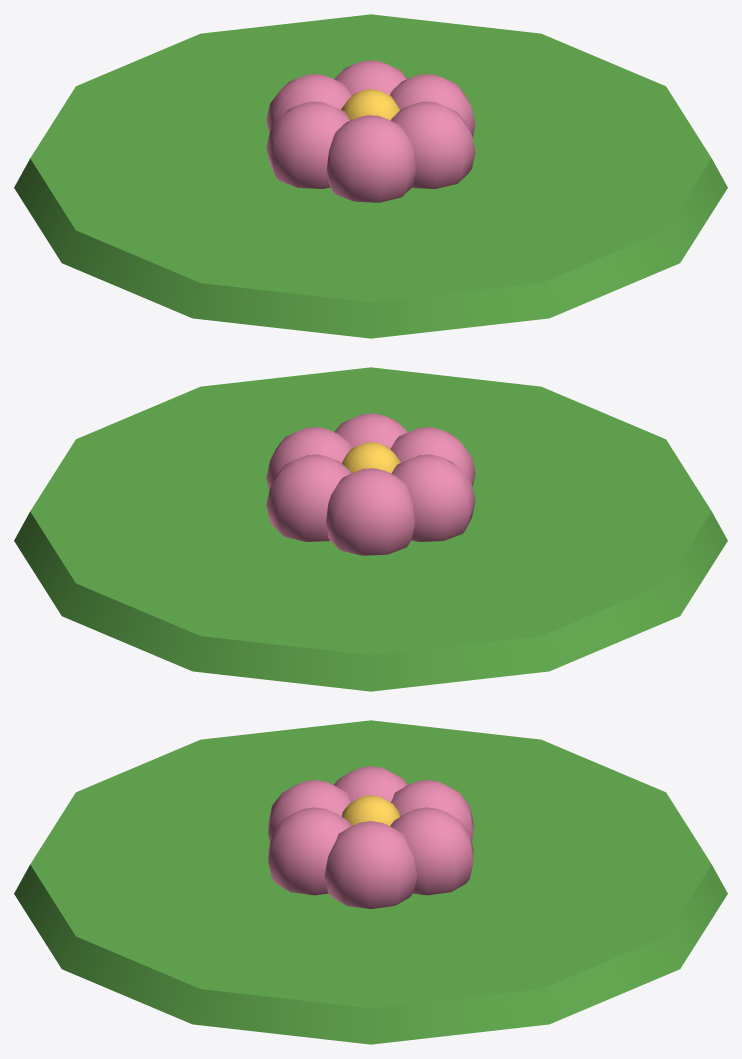
File: lily_large.glb
The picture shows the model from 3 angles, top to bottom: view 1: azimuth 30°, elevation 25°; view 2: azimuth 150°, elevation 25°; view 3: azimuth 270°, elevation 25°; orthographic projection.
Size of the model in its own units: 0.88 by 0.13 by 0.88.
